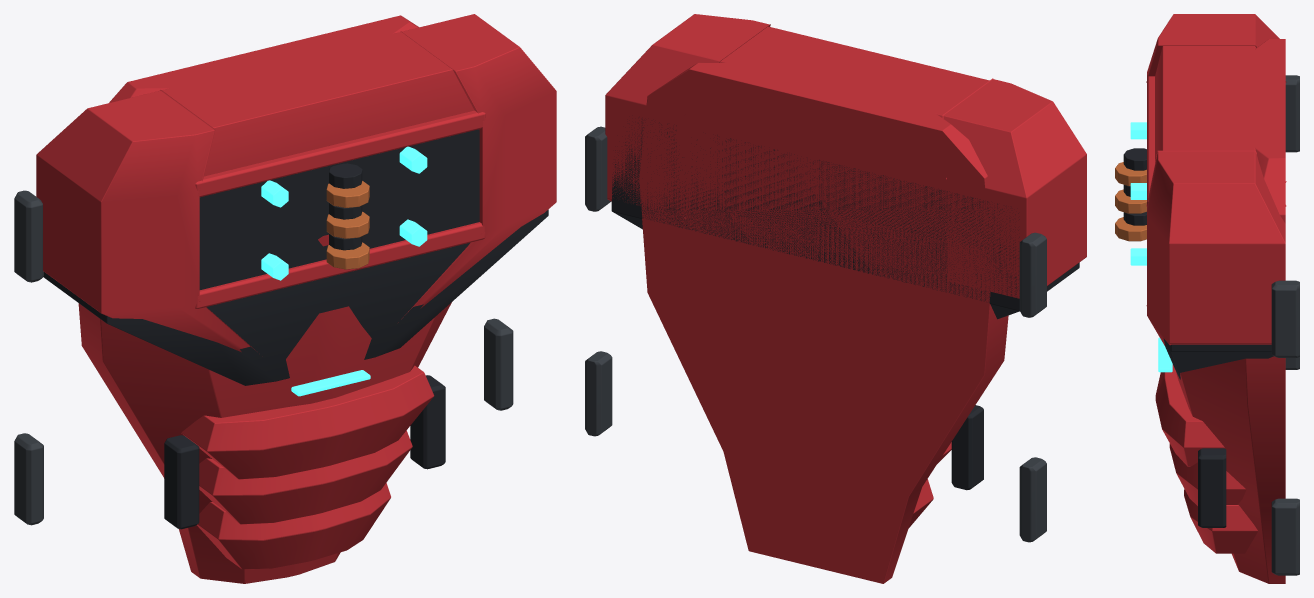
Rendered from BodyFront_Set06_Voltaic.fbx.
3 renders of one model, left to right at view 1: azimuth 30°, elevation 25°; view 2: azimuth 150°, elevation 25°; view 3: azimuth 270°, elevation 25°, orthographic. The views are drawn at different scales.
Parts seen in each view (by area): view 1: BodyFront_Set06_Voltaic; view 2: BodyFront_Set06_Voltaic; view 3: BodyFront_Set06_Voltaic.
Part boxes in pixels (box(x1,y1,x2,y2)): BodyFront_Set06_Voltaic: box(14, 14, 556, 583); BodyFront_Set06_Voltaic: box(585, 14, 1086, 583); BodyFront_Set06_Voltaic: box(1115, 14, 1299, 583).
Size of the model in its own units: 1.07 by 1.06 by 0.3918.
